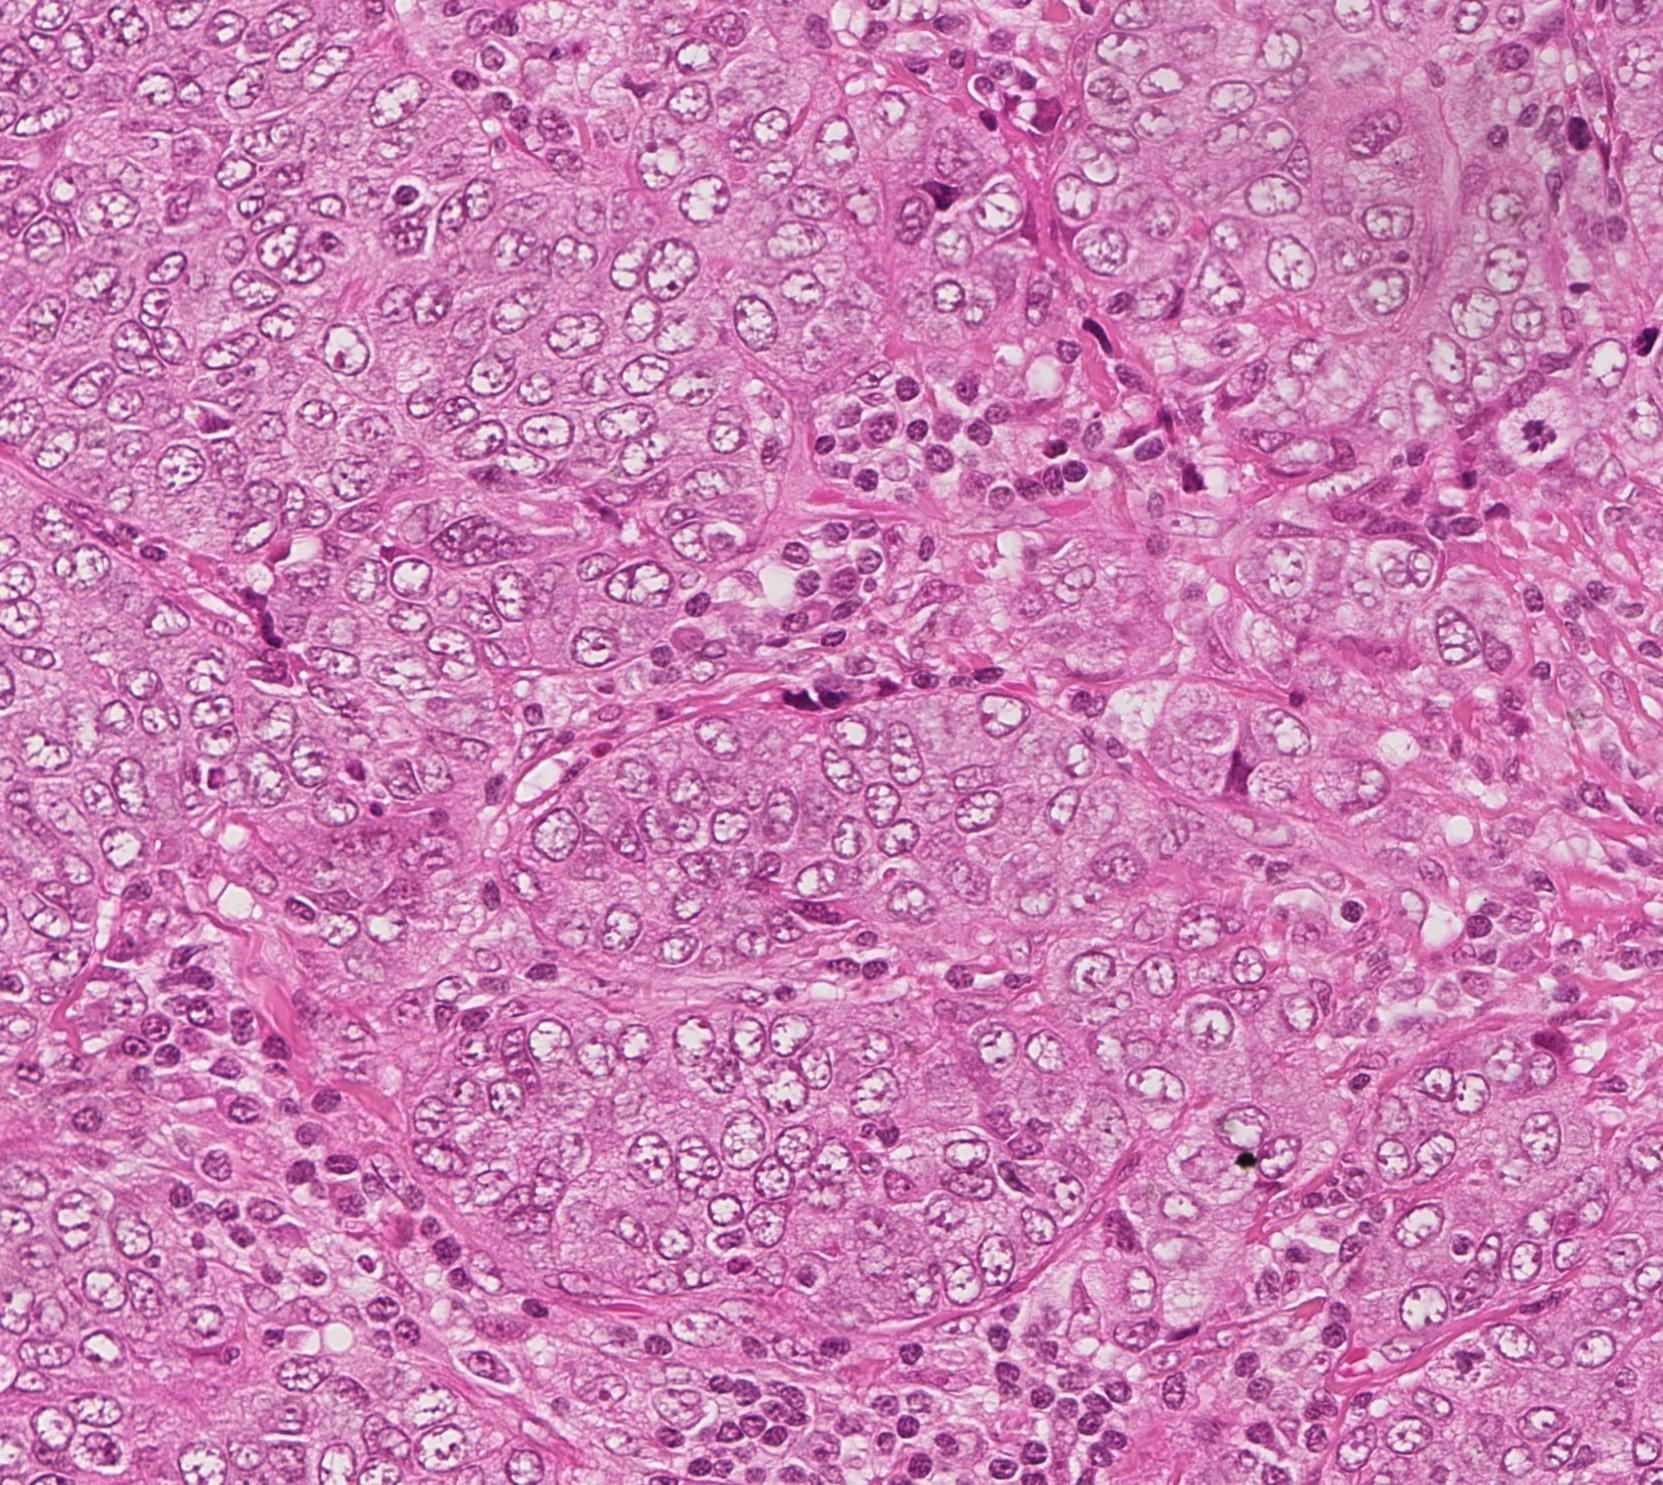mitosis: (1518, 400, 1578, 460), (1436, 1330, 1497, 1390)
